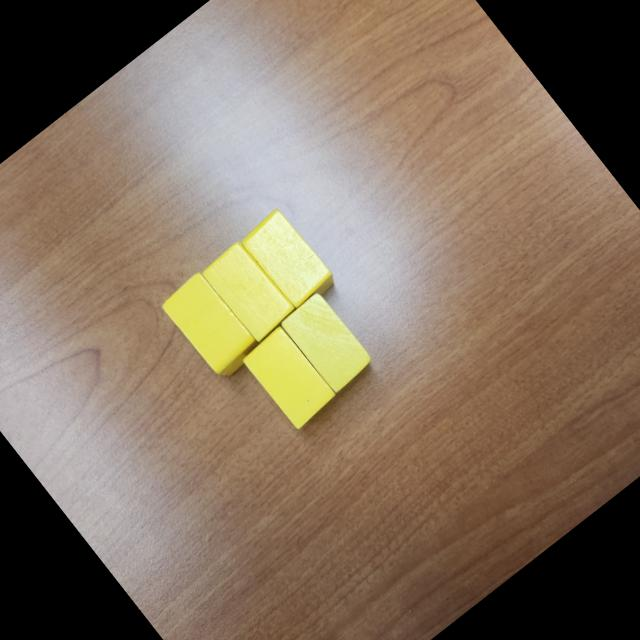yellow: (160, 270, 265, 382), (238, 206, 340, 316), (198, 237, 300, 346), (238, 322, 339, 430), (277, 288, 377, 396)
